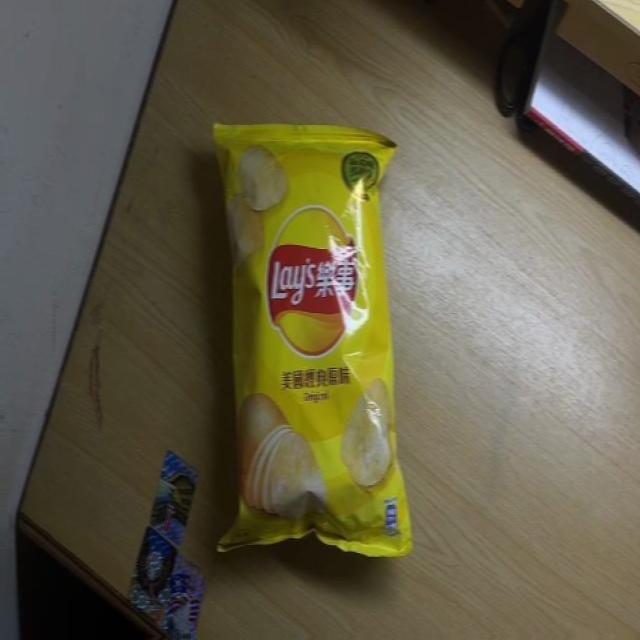Lay-s-original: (209, 120, 413, 562)
